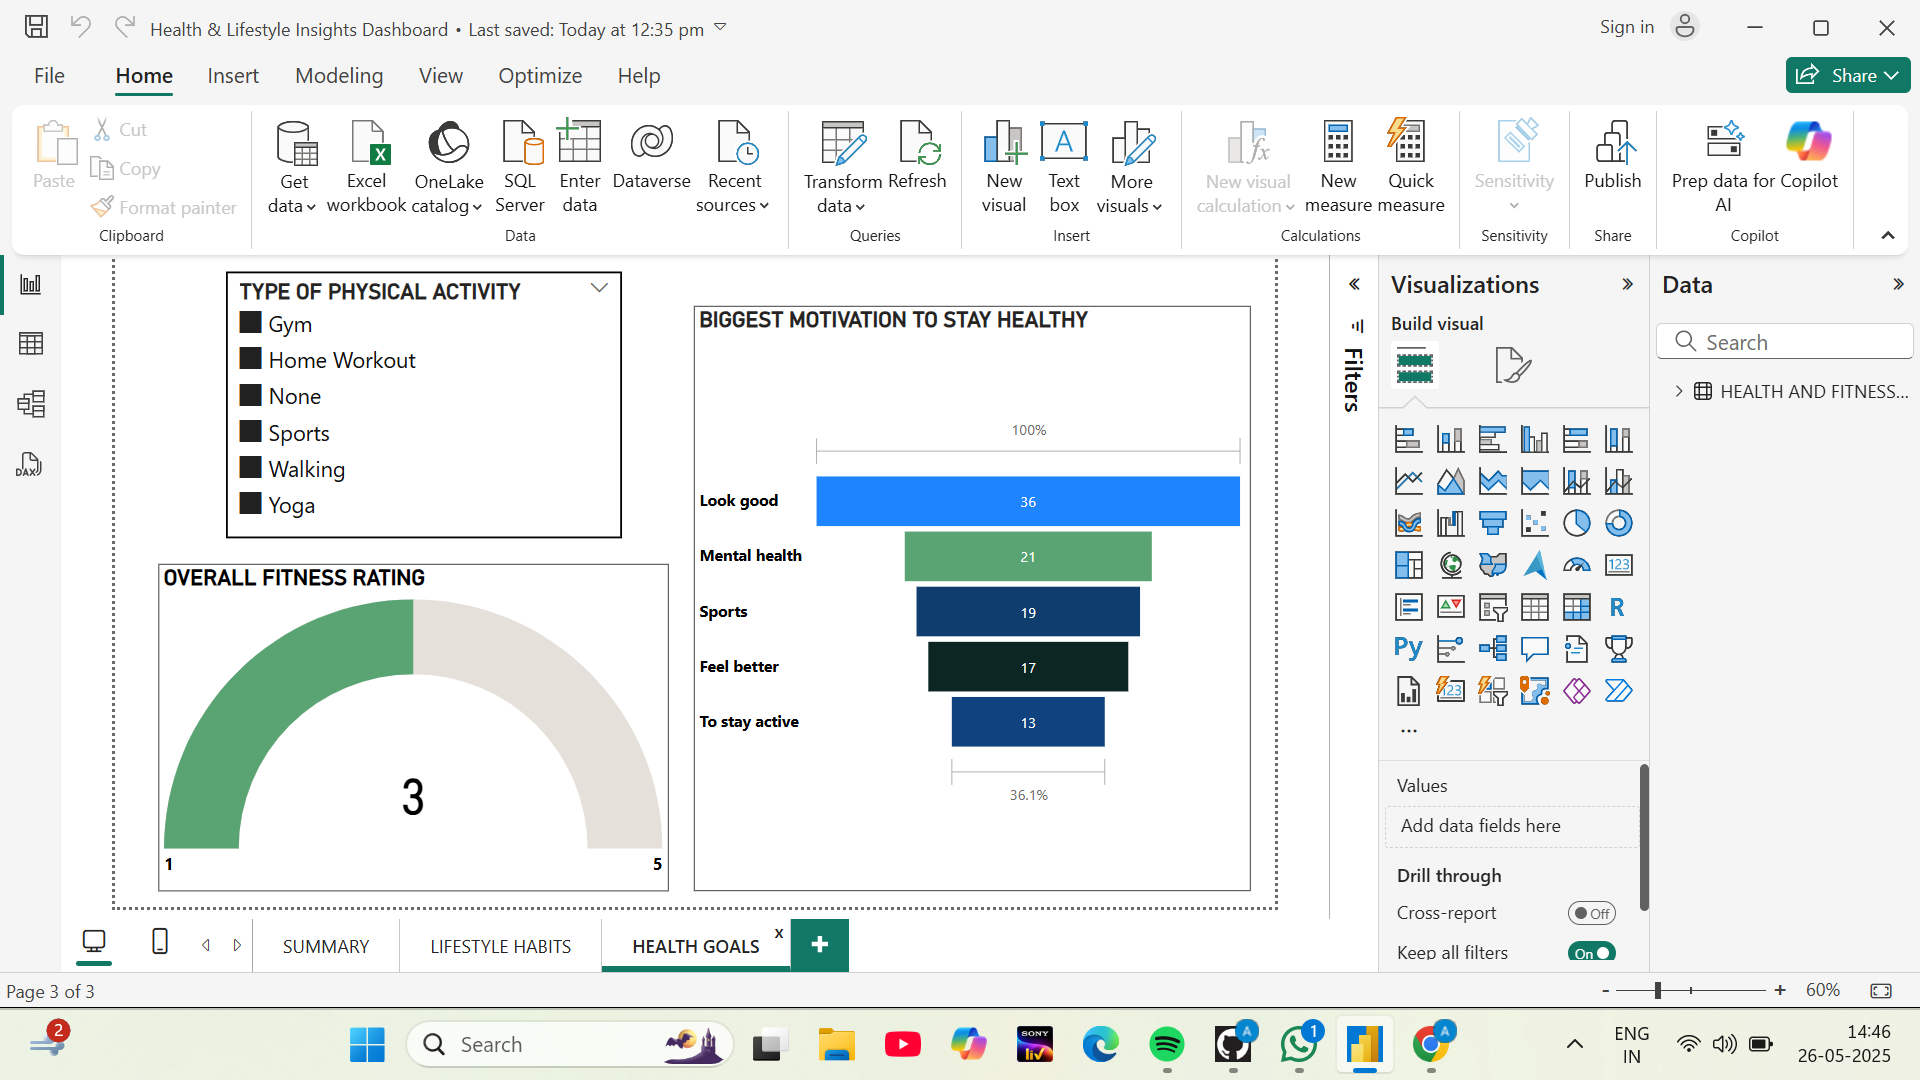

What the dashboard file says about the page in this screenshot:
{"tool":"powerbi","page":{"name":"HEALTH GOALS","canvas":[1280,720],"ordinal":2},"visuals":[{"type":"gauge","title":"OVERALL FITNESS RATING","fields":{"Y":["Median(HEALTH AND FITNESS SURVEY.FITNESS LEVEL)"],"MinValue":["Min(HEALTH AND FITNESS SURVEY.FITNESS LEVEL)"],"MaxValue":["Max(HEALTH AND FITNESS SURVEY.FITNESS LEVEL)"]},"box":[48,341.2,563.2,361.1],"z":0},{"type":"slicer","fields":{"Values":["HEALTH AND FITNESS SURVEY.TYPE OF PHYSICAL ACTIVITY"]},"box":[122.6,18.2,437.3,294.9],"z":1000},{"type":"funnel","title":"BIGGEST MOTIVATION TO STAY HEALTHY","fields":{"Y":["CountNonNull(HEALTH AND FITNESS SURVEY.What is your biggest motivation to stay healthy?.1)"],"Category":["HEALTH AND FITNESS SURVEY.What is your biggest motivation to stay healthy?.1"]},"box":[639.4,56.3,614.6,646],"z":2000}]}

Visuals, with their boxes on the page's 1280x720 design canvas (x1, y1, x2, y2). These are canvas units, not pixel positions in the 1920x1080 screenshot, which may show the page scaled, cropped or inside an application window:
"OVERALL FITNESS RATING" gauge: box=[48, 341, 611, 702]
slicer - HEALTH AND FITNESS SURVEY.TYPE OF PHYSICAL ACTIVITY: box=[123, 18, 560, 313]
"BIGGEST MOTIVATION TO STAY HEALTHY" funnel: box=[639, 56, 1254, 702]
